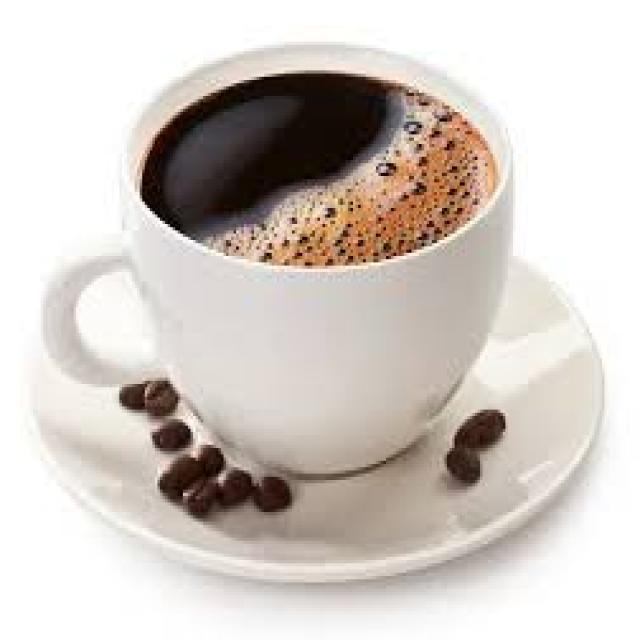taza: (31, 42, 522, 478)
